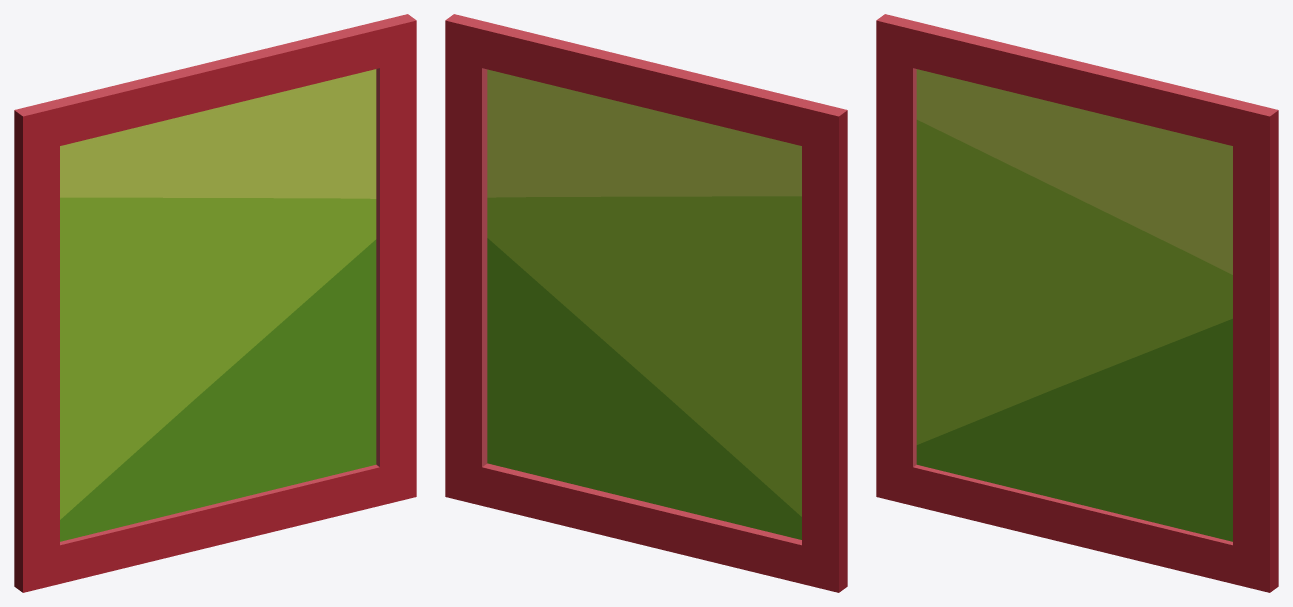
File: Picture.fbx
3 renders of one model, left to right at view 1: azimuth 30°, elevation 25°; view 2: azimuth 150°, elevation 25°; view 3: azimuth 330°, elevation 25°, orthographic.
Parts seen in each view (by area): view 1: Picture; view 2: Picture; view 3: Picture.
Part boxes in pixels (left/top/right/bottom): Picture: left=14, top=14, right=416, bottom=592; Picture: left=445, top=14, right=847, bottom=592; Picture: left=876, top=14, right=1278, bottom=592.
Size of the model in its own units: 128 by 148 by 5.
